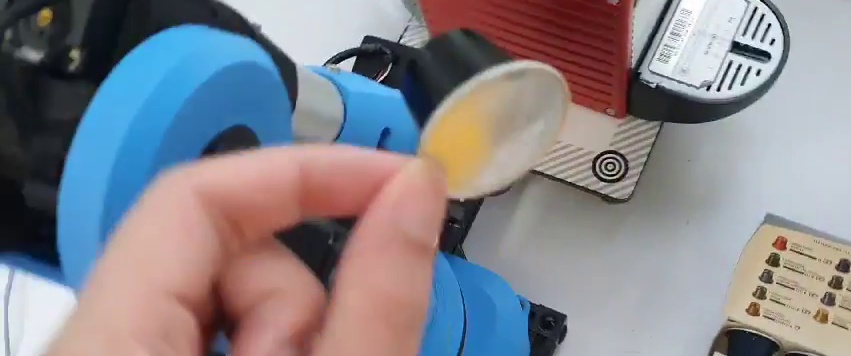capsule_10: (397, 26, 572, 205)
